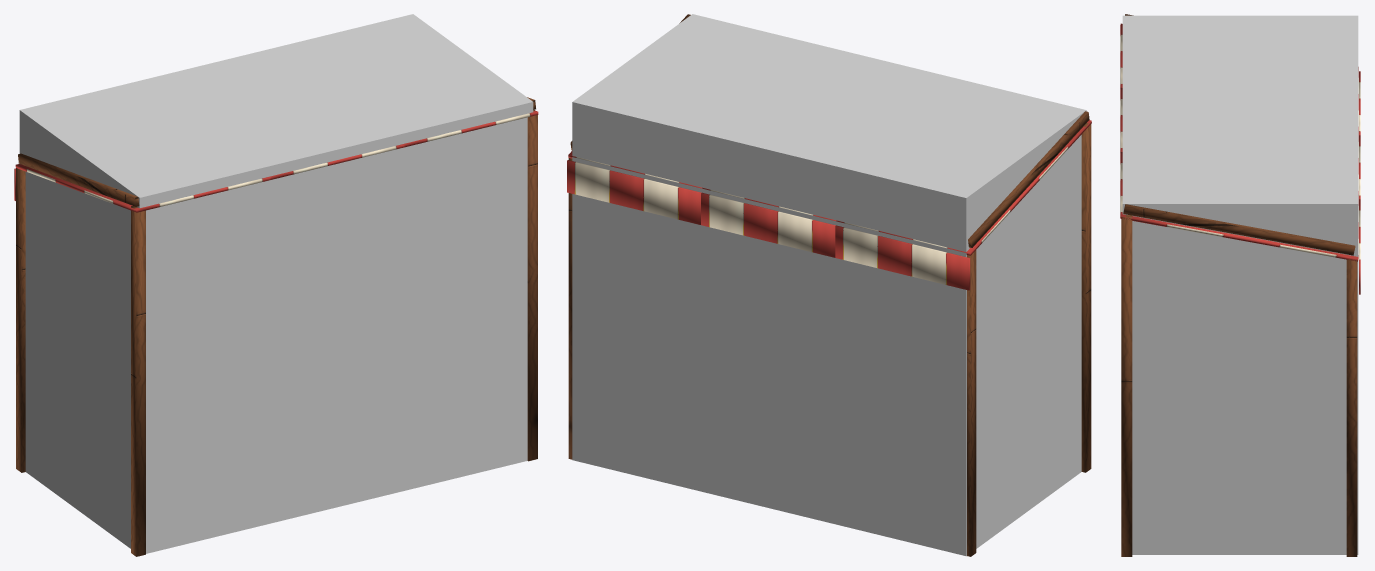
File: FMS_Stall_Canopy.fbx
3 renders of one model, left to right at view 1: azimuth 30°, elevation 25°; view 2: azimuth 150°, elevation 25°; view 3: azimuth 270°, elevation 25°, orthographic. The views are drawn at different scales.
Visible parts, largest first — view 1: Canopy_Unified_Col, Canopy_Unified_LOD0; view 2: Canopy_Unified_Col, Canopy_Unified_LOD0; view 3: Canopy_Unified_Col, Canopy_Unified_LOD0.
Boxes of the visible parts, x1=… form: Canopy_Unified_Col: x1=19, y1=14, x2=533, y2=553; Canopy_Unified_LOD0: x1=14, y1=97, x2=538, y2=556; Canopy_Unified_Col: x1=572, y1=14, x2=1086, y2=556; Canopy_Unified_LOD0: x1=567, y1=14, x2=1091, y2=556; Canopy_Unified_Col: x1=1122, y1=15, x2=1358, y2=554; Canopy_Unified_LOD0: x1=1120, y1=14, x2=1360, y2=556.
Size of what is drawn, in the model's own units: 291 by 248 by 154.
